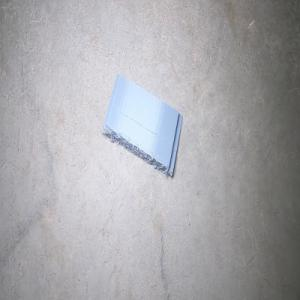PlasticPart: (100, 73, 182, 178)
